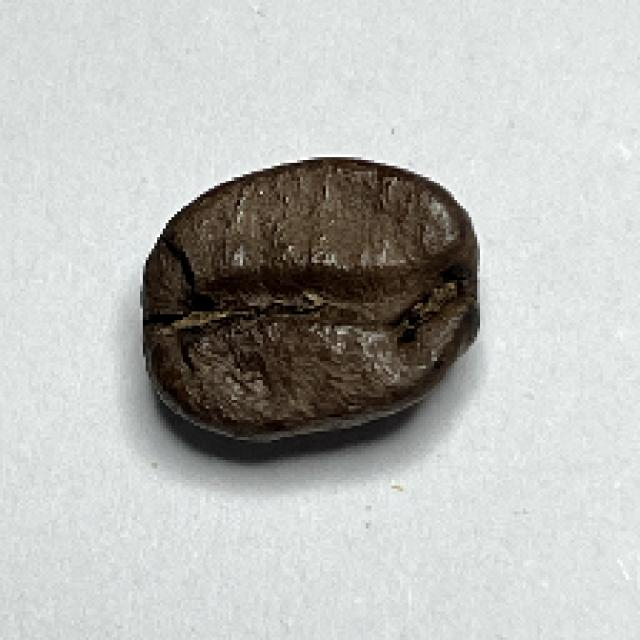bean: (135, 156, 482, 443)
